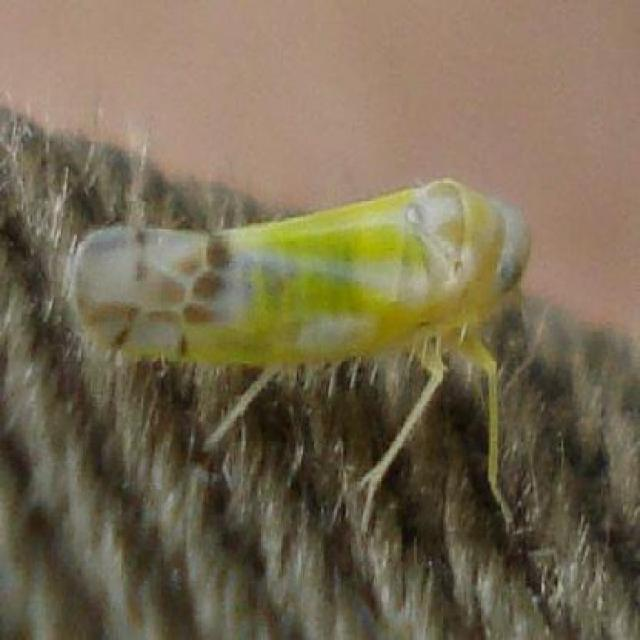green-leafhopper: (69, 178, 534, 367)
